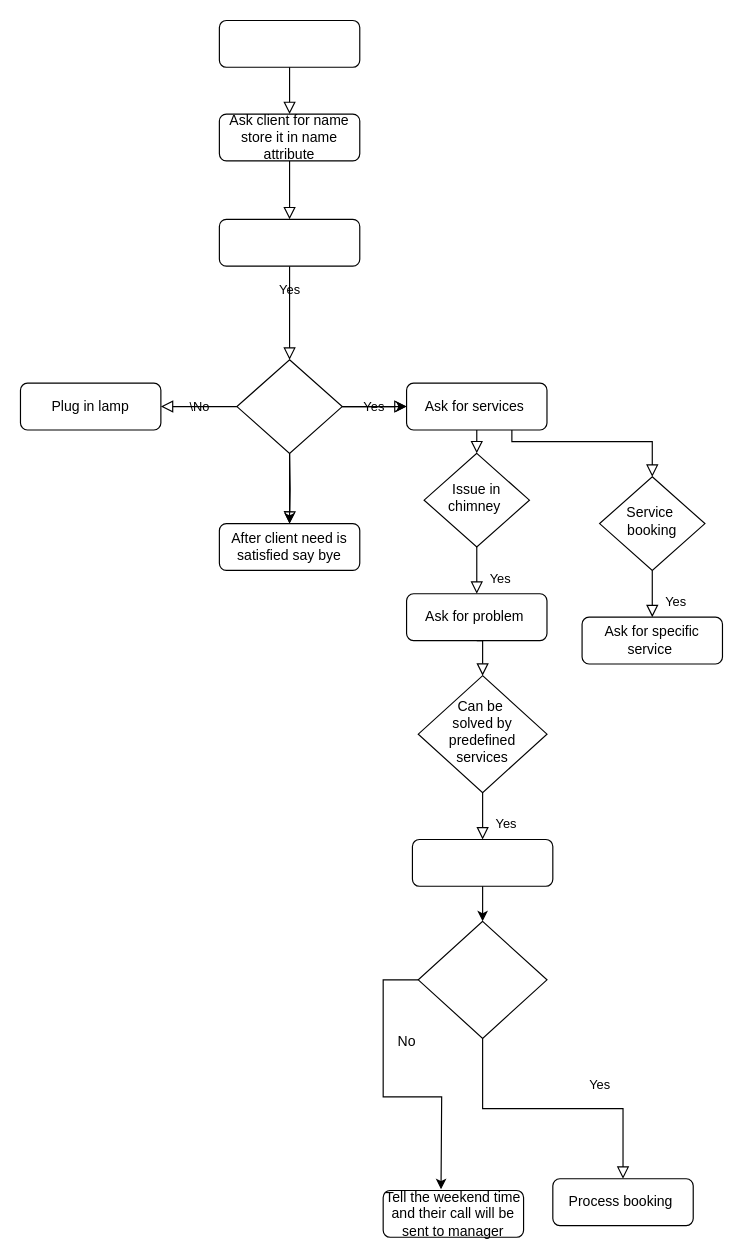
Image size: 743x1259. Some labels were removed from this diagram. The centre of each missing label's shape, as x and y in pixels:
Greet the client: (289,43)
How the agent can assist the client ?: (289,242)
If agrees with it: (482,979)
If chimney service: (289,406)
Suggest service: (482,862)
